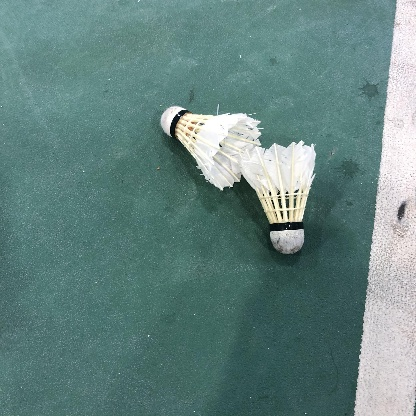ball_single: (161, 106, 261, 191), (241, 141, 316, 254)
